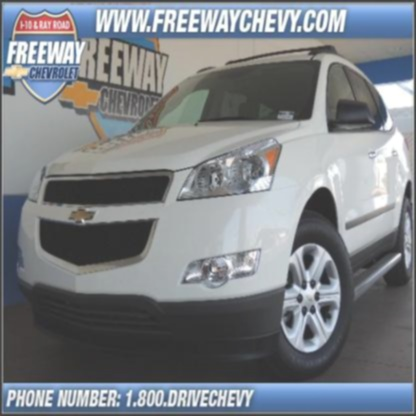Vehicle: (14, 44, 415, 386)
